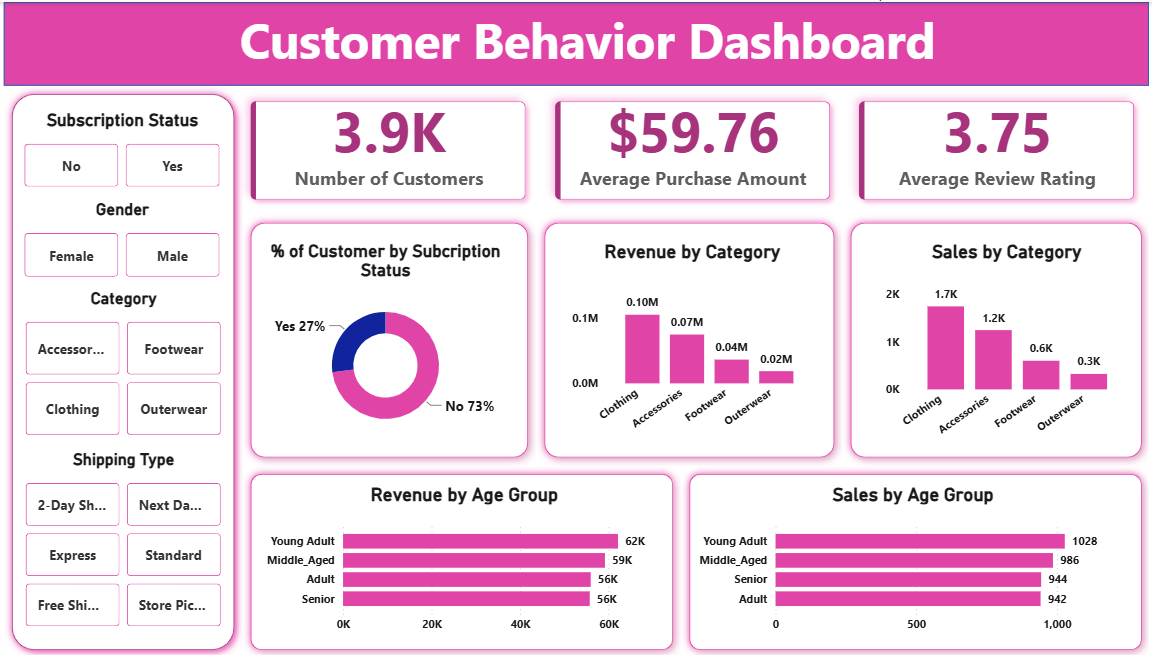

The page's visual inventory and layout, read from the dashboard file:
{"tool":"powerbi","page":{"name":"Page 1","canvas":[1280,720],"ordinal":0},"visuals":[{"type":"cardVisual","fields":{"Data":["public customer.Number of Customers","public customer.Average Purchase Amount","public customer.Average Review Rating"]},"box":[252.5,81,1027.8,164.7],"z":0},{"type":"shape","box":[9.6,0,1258.3,91.9],"z":1000},{"type":"textbox","box":[20.6,0,1259.7,91.9],"z":2000},{"type":"shape","box":[271.7,233.3,322.5,275.8],"z":3000},{"type":"donutChart","title":"% of Customer by Subcription Status","fields":{"Category":["public customer.subscription_status"],"Y":["CountNonNull(public customer.customer_id)"]},"box":[292.3,262.1,273.1,219.6],"z":4000},{"type":"shape","box":[930.4,233.3,337.6,275.8],"z":5000},{"type":"shape","box":[594.2,233.3,336.2,275.8],"z":6000},{"type":"clusteredColumnChart","title":"Revenue by Category","fields":{"Category":["public customer.category"],"Y":["Sum(public customer.purchase_amount)"]},"box":[628.5,262.1,274.4,219.6],"z":7000},{"type":"clusteredColumnChart","title":"Sales by Category","fields":{"Category":["public customer.category"],"Y":["CountNonNull(public customer.customer_id)"]},"box":[972.9,262.1,275.8,229.2],"z":8000},{"type":"shape","box":[9.6,91.9,262.1,628.5],"z":9000},{"type":"advancedSlicerVisual","fields":{"Values":["public customer.subscription_status"]},"box":[27.4,118,225,90.6],"z":10000},{"type":"advancedSlicerVisual","fields":{"Values":["public customer.gender"]},"box":[27.4,216.8,225,90.6],"z":11000},{"type":"advancedSlicerVisual","title":"Category","fields":{"Values":["public customer.category"]},"box":[28.8,314.2,225,167.4],"z":12000},{"type":"advancedSlicerVisual","title":"Shipping Type","fields":{"Values":["public customer.shipping_type"]},"box":[28.8,491.3,225,199],"z":13000},{"type":"shape","box":[271.7,509.1,481.6,211.3],"z":14000},{"type":"clusteredBarChart","title":"Revenue by Age Group","fields":{"Y":["Sum(public customer.purchase_amount)"],"Category":["public customer.age_group"]},"box":[292.3,528.3,446,172.9],"z":15000},{"type":"shape","box":[753.3,509.1,514.6,211.3],"z":16000},{"type":"clusteredBarChart","title":"Sales by Age Group","fields":{"Category":["public customer.age_group"],"Y":["CountNonNull(public customer.customer_id)"]},"box":[767.1,528.3,481.6,172.9],"z":17000}]}

Visuals, with their boxes in screenshot pixels (x1, y1, x2, y2), scaled from the page's 1280x720 canvas onto the 1152x655 screenshot:
cardVisual - public customer.Number of Customers x public customer.Average Purchase Amount: left=227, top=74, right=1151, bottom=224
shape: left=9, top=0, right=1141, bottom=84
textbox: left=19, top=0, right=1151, bottom=84
shape: left=245, top=212, right=535, bottom=463
"% of Customer by Subcription Status" donutChart: left=263, top=238, right=509, bottom=438
shape: left=837, top=212, right=1141, bottom=463
shape: left=535, top=212, right=837, bottom=463
"Revenue by Category" clusteredColumnChart: left=566, top=238, right=813, bottom=438
"Sales by Category" clusteredColumnChart: left=876, top=238, right=1124, bottom=447
shape: left=9, top=84, right=245, bottom=654
advancedSlicerVisual - public customer.subscription_status: left=25, top=107, right=227, bottom=190
advancedSlicerVisual - public customer.gender: left=25, top=197, right=227, bottom=280
"Category" advancedSlicerVisual: left=26, top=286, right=228, bottom=438
"Shipping Type" advancedSlicerVisual: left=26, top=447, right=228, bottom=628
shape: left=245, top=463, right=678, bottom=654
"Revenue by Age Group" clusteredBarChart: left=263, top=481, right=664, bottom=638
shape: left=678, top=463, right=1141, bottom=654
"Sales by Age Group" clusteredBarChart: left=690, top=481, right=1124, bottom=638
